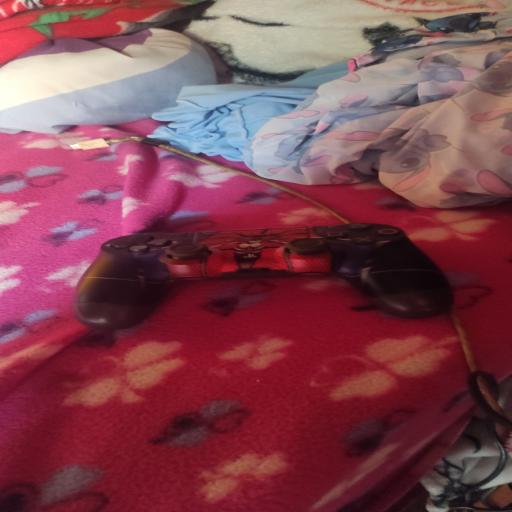ControlPlay4: (74, 221, 453, 329)
